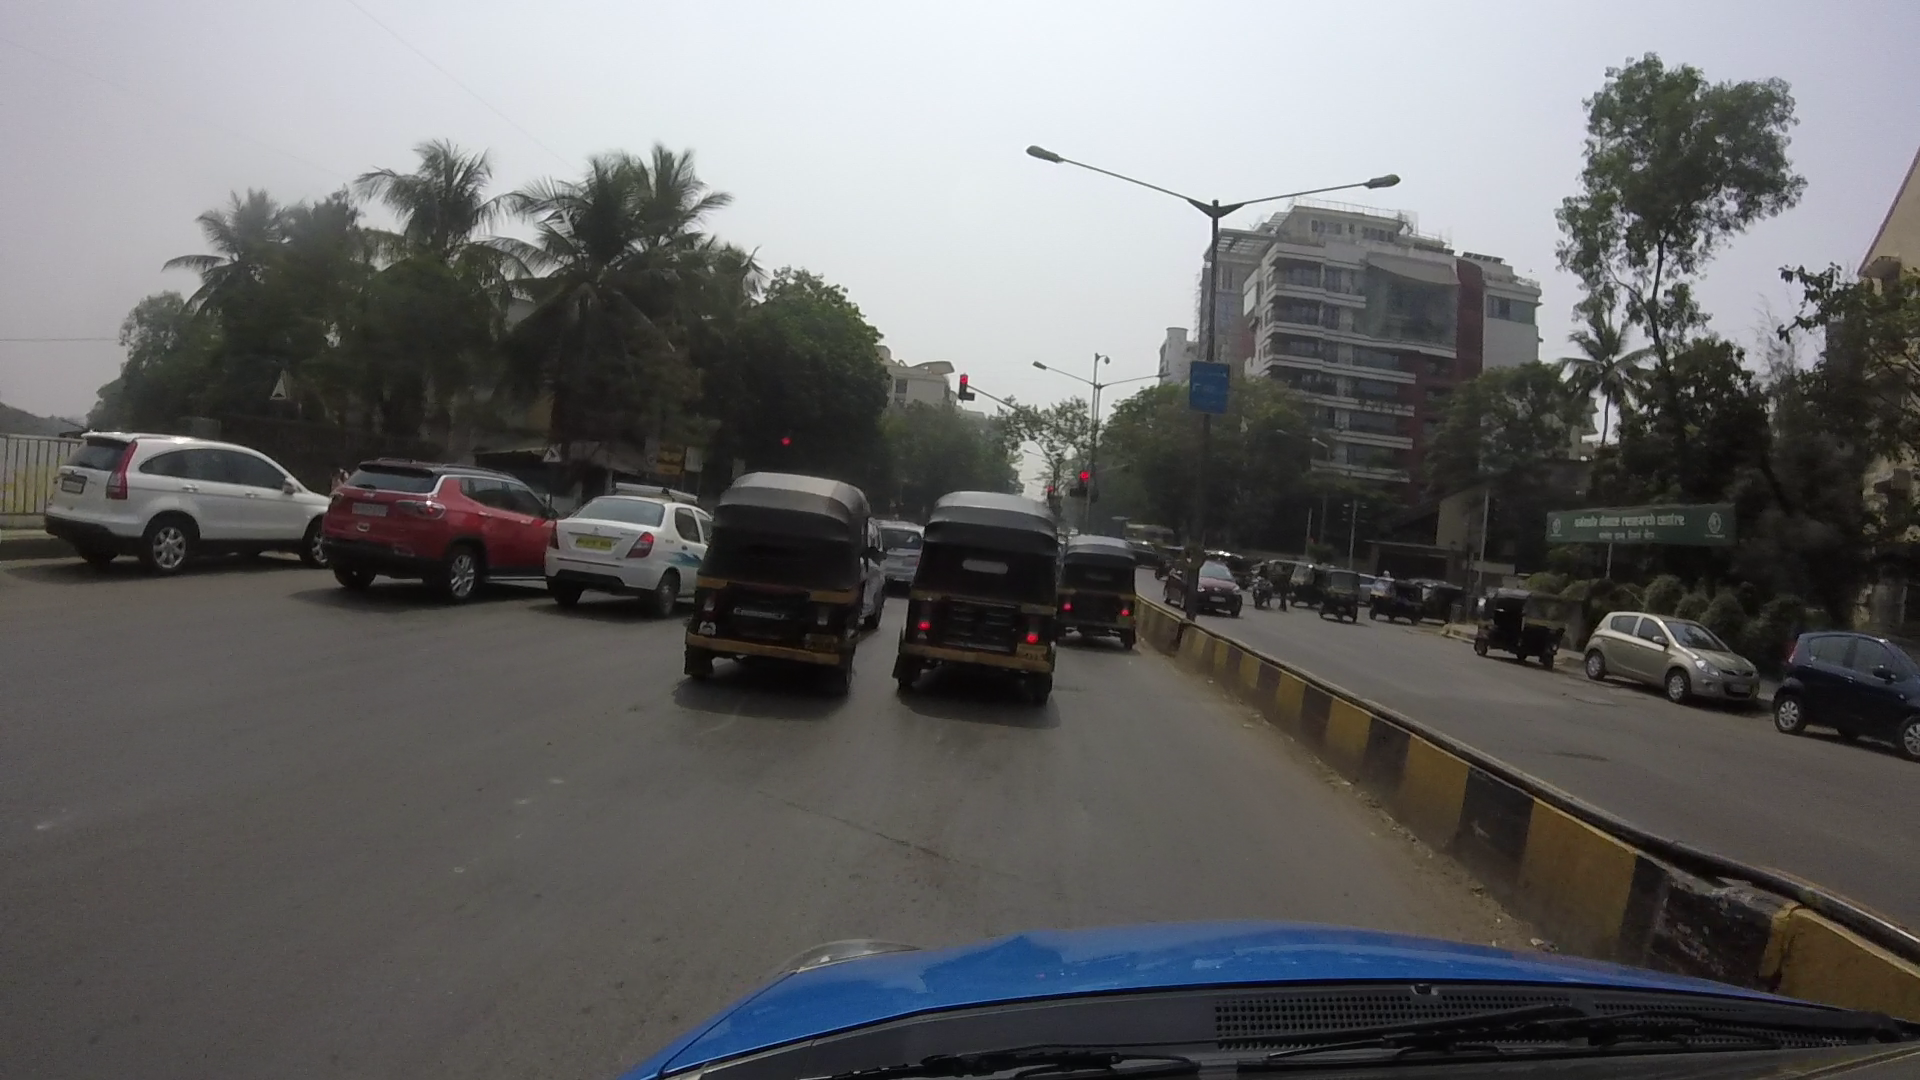car: (61, 430, 322, 572), (311, 451, 558, 601), (1593, 604, 1753, 719), (560, 492, 708, 607), (1784, 624, 1919, 748), (1146, 542, 1255, 618)
rickshaw: (899, 487, 1072, 709), (694, 465, 849, 686), (1055, 539, 1143, 645), (1469, 583, 1555, 657)
